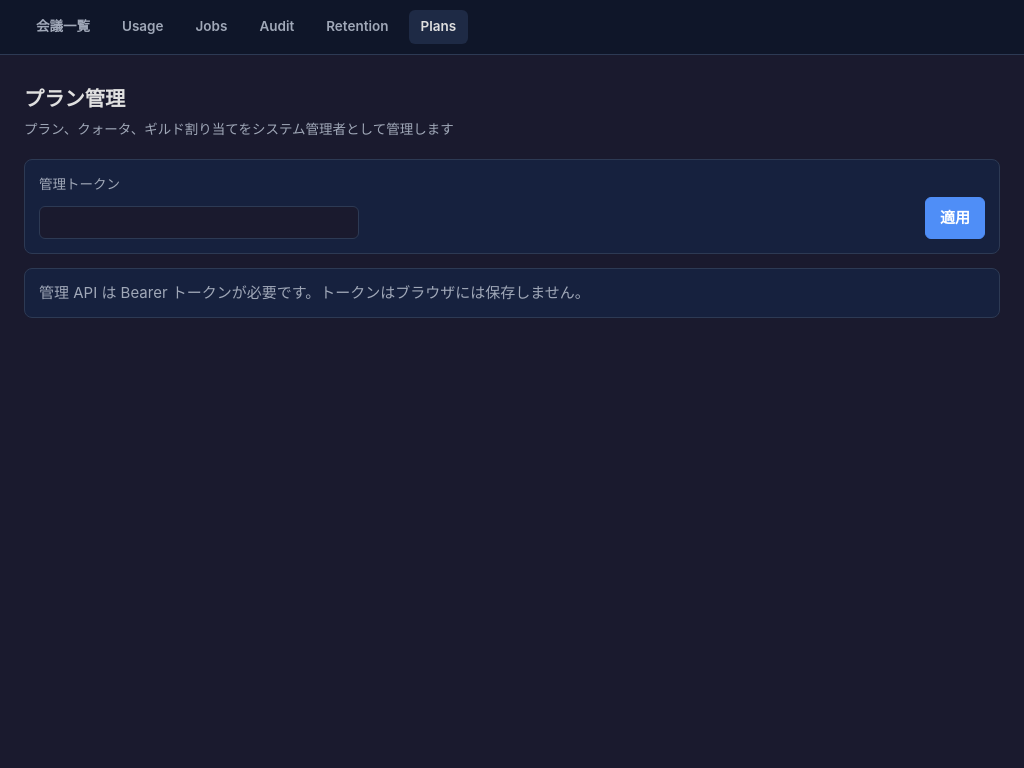
App access controls › sends null limit_value when creating an unlimited quota
Type "admin-token" into the password field labelled "管理トークン". click: (199, 222)
box: 39,206 -> 359,239
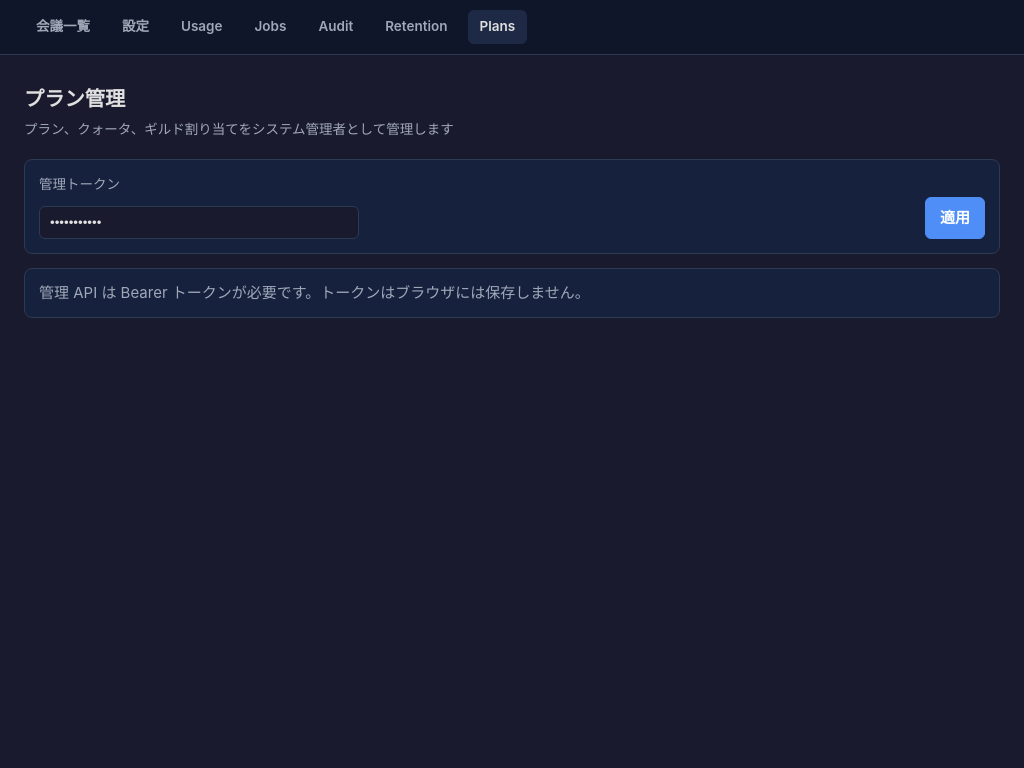
Click the button "適用". click: (955, 218)
box: 925,197 -> 985,239
(page scrolled)
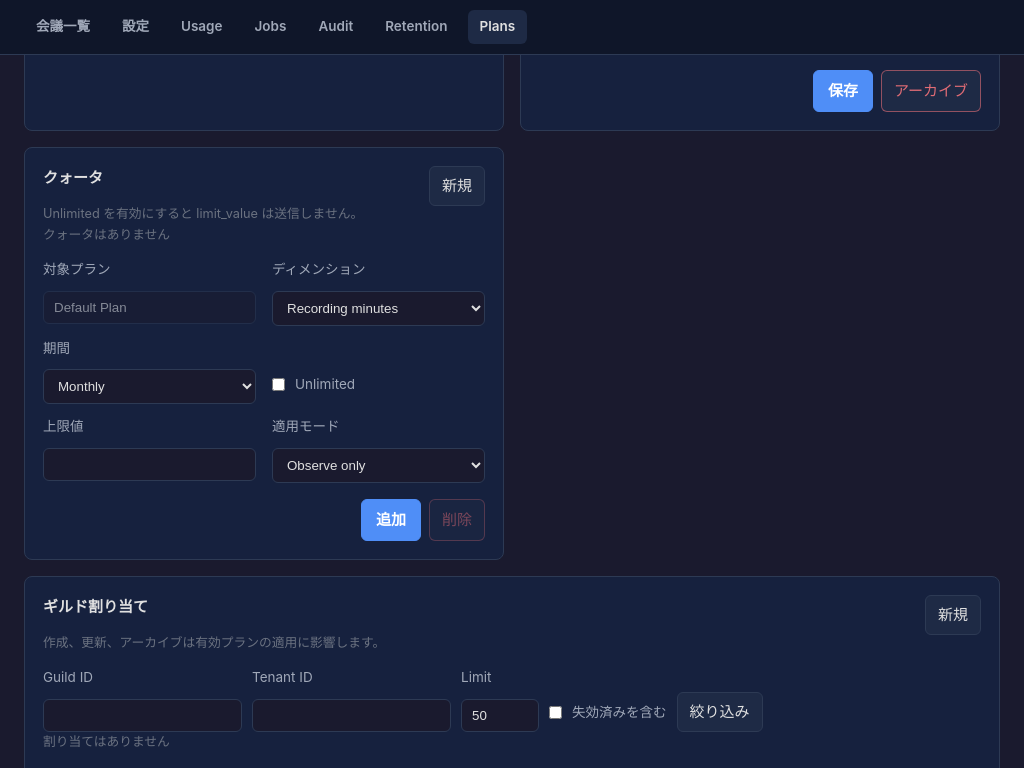
Click the checkbox labelled "Unlimited". click: (278, 385)
box: 272,378 -> 285,391
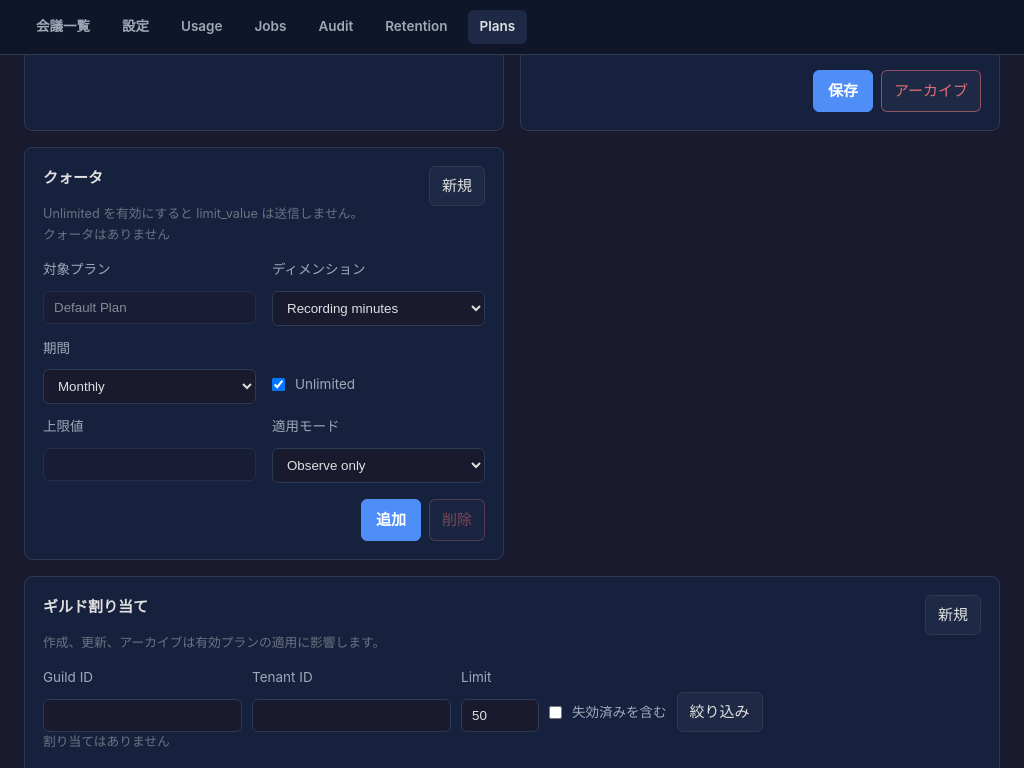
Click the button "追加". click: (391, 520)
box: 361,499 -> 421,541
(page scrolled)
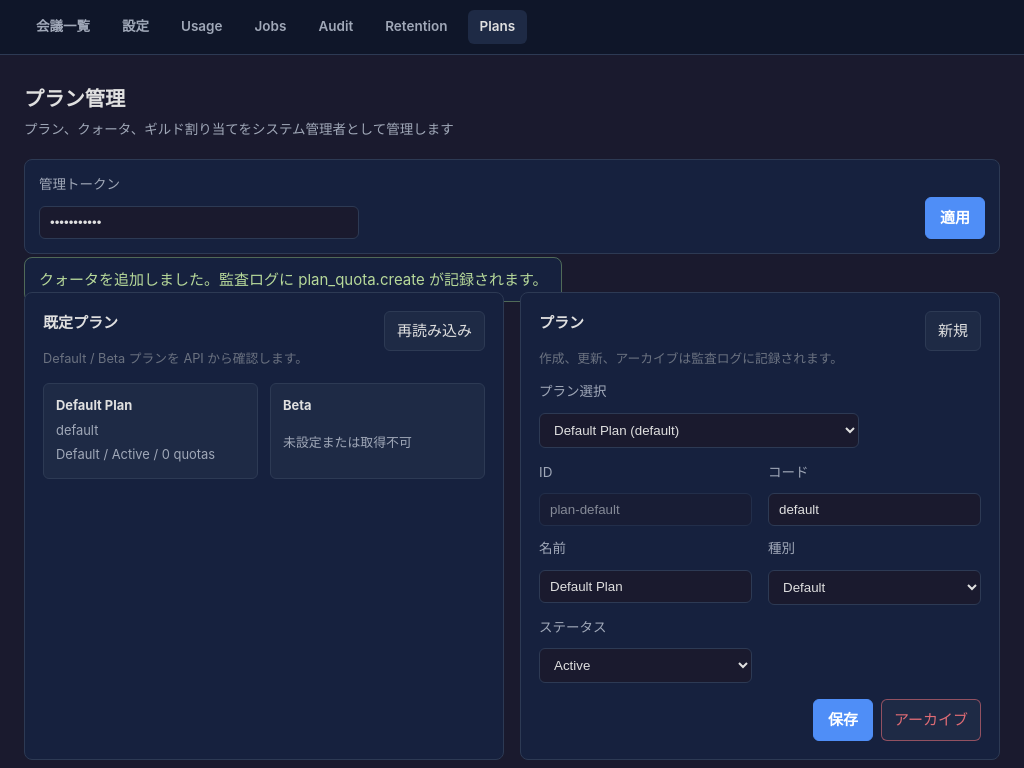
Check: the text "クォータを追加しました。監査ログに plan_quota.create が記録されます。" is shown, box 24,257 -> 562,302
